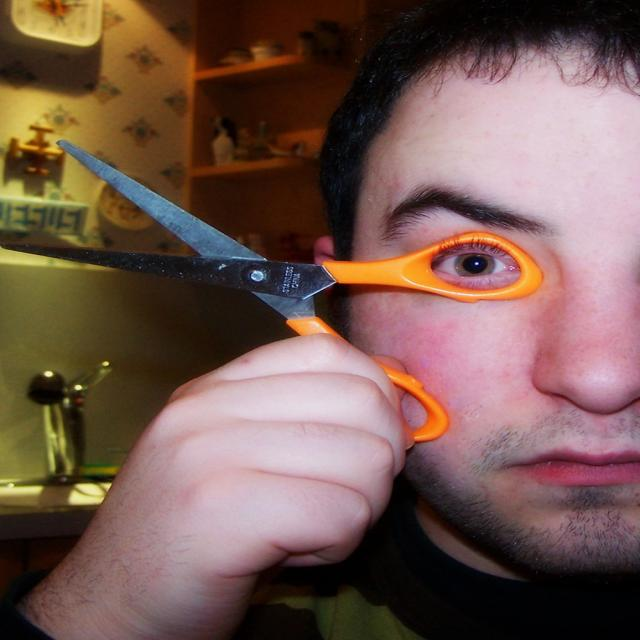scissors: (1, 138, 543, 448)
